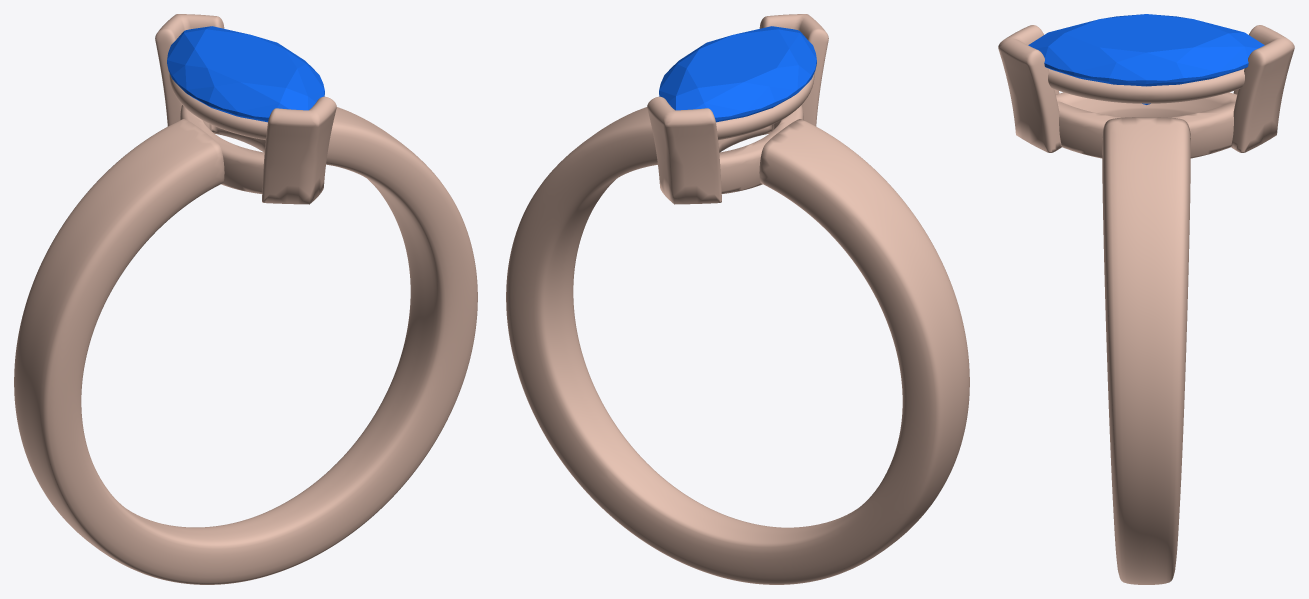
File: bluesapphire-marquise-rosegold-protectededges2prong-straighttaperedband-nosidestones.glb
3 views of the same model, side by side, from view 1: azimuth 30°, elevation 25°; view 2: azimuth 150°, elevation 25°; view 3: azimuth 270°, elevation 25° (orthographic). The views are drawn at different scales.
Parts seen in each view (by area): view 1: metal, stone; view 2: metal, stone; view 3: metal, stone.
Part boxes in pixels (x1,y1,x2,y2): metal: (14,14,477,584); stone: (167,26,324,122); metal: (506,14,969,584); stone: (659,26,816,122); metal: (998,25,1294,584); stone: (1028,14,1264,104).
Bounding box in the file's own units: 20.48 × 22.93 × 11.69.
